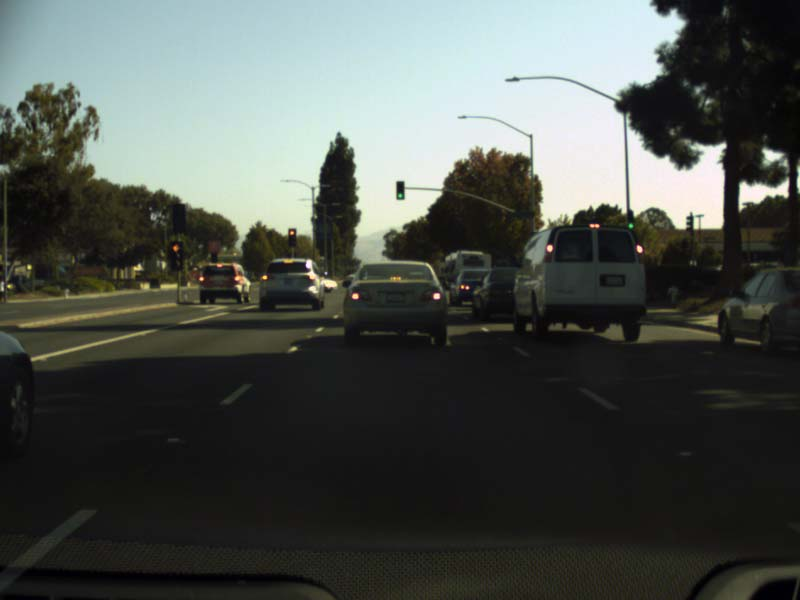Green: (397, 182, 402, 198), (627, 212, 632, 228)
Red: (172, 242, 181, 269), (289, 230, 294, 245)
